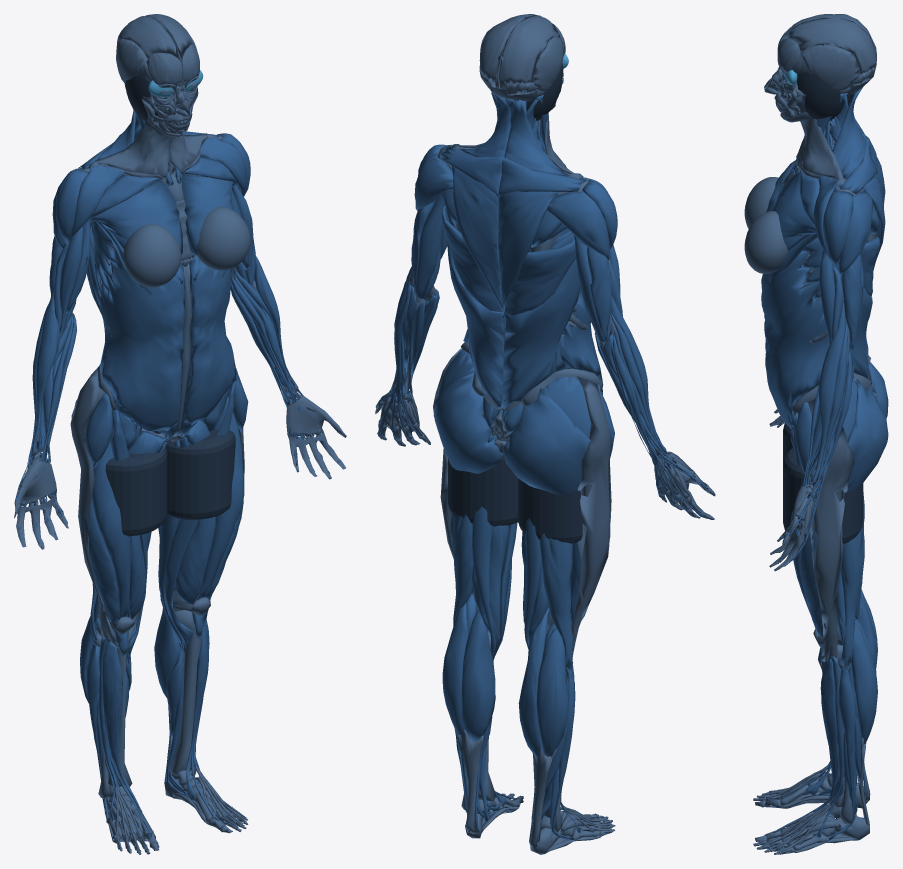
File: female.glb
3 renders of one model, left to right at view 1: azimuth 30°, elevation 25°; view 2: azimuth 150°, elevation 25°; view 3: azimuth 270°, elevation 25°, orthographic. The views are drawn at different scales.
Parts seen in each view (by area): view 1: connective_tissue__female_mobile, external_oblique_right__female_mobile, skeleton__female_mobile, head_hands_feet__female_mobile, external_oblique_left__female_mobile, Athlete_Training_Shorts.001, Athlete_Training_Shorts, rectus_femoris_right__female_mobile, pectoralis_major_sternocostal_right__female_mobile, breast_tissue_right__female_mobile, breast_tissue_left__female_mobile, rectus_femoris_left__female_mobile (+31 smaller); view 2: connective_tissue__female_mobile, latissimus_dorsi_right__female_mobile, skeleton__female_mobile, gluteus_maximus_right__female_mobile, latissimus_dorsi_left__female_mobile, gluteus_maximus_left__female_mobile, head_hands_feet__female_mobile, trapezius_upper_left__female_mobile, Athlete_Training_Shorts.001, trapezius_upper_right__female_mobile, gastrocnemius_medial_left__female_mobile, gastrocnemius_lateral_right__female_mobile (+31 smaller); view 3: connective_tissue__female_mobile, head_hands_feet__female_mobile, external_oblique_left__female_mobile, skeleton__female_mobile, gluteus_maximus_left__female_mobile, Athlete_Training_Shorts.001, breast_tissue_left__female_mobile, gastrocnemius_lateral_left__female_mobile, biceps_femoris_long_left__female_mobile, brachioradialis_muscle_left__female_mobile, pectoralis_major_sternocostal_left__female_mobile, latissimus_dorsi_left__female_mobile (+32 smaller).
Part boxes in pixels (x1,y1,x2,y2): connective_tissue__female_mobile: [14, 14, 346, 849]; external_oblique_right__female_mobile: [100, 246, 185, 431]; skeleton__female_mobile: [14, 22, 346, 854]; head_hands_feet__female_mobile: [20, 27, 323, 850]; external_oblique_left__female_mobile: [184, 256, 236, 424]; Athlete_Training_Shorts.001: [155, 429, 235, 519]; Athlete_Training_Shorts: [105, 448, 167, 536]; rectus_femoris_right__female_mobile: [91, 430, 131, 658]; pectoralis_major_sternocostal_right__female_mobile: [86, 180, 182, 254]; breast_tissue_right__female_mobile: [123, 224, 181, 287]; breast_tissue_left__female_mobile: [197, 206, 250, 270]; rectus_femoris_left__female_mobile: [193, 396, 244, 639]; connective_tissue__female_mobile: [375, 14, 715, 854]; latissimus_dorsi_right__female_mobile: [501, 239, 580, 409]; skeleton__female_mobile: [375, 16, 715, 854]; gluteus_maximus_right__female_mobile: [503, 388, 590, 494]; latissimus_dorsi_left__female_mobile: [442, 205, 504, 407]; gluteus_maximus_left__female_mobile: [433, 372, 502, 473]; head_hands_feet__female_mobile: [378, 24, 692, 851]; trapezius_upper_left__female_mobile: [451, 166, 504, 312]; Athlete_Training_Shorts.001: [448, 439, 517, 526]; trapezius_upper_right__female_mobile: [498, 191, 560, 312]; gastrocnemius_medial_left__female_mobile: [461, 609, 495, 741]; gastrocnemius_lateral_right__female_mobile: [536, 627, 568, 756]; connective_tissue__female_mobile: [758, 14, 876, 852]; head_hands_feet__female_mobile: [766, 27, 876, 853]; external_oblique_left__female_mobile: [761, 251, 829, 426]; skeleton__female_mobile: [753, 17, 878, 854]; gluteus_maximus_left__female_mobile: [847, 379, 888, 491]; Athlete_Training_Shorts.001: [783, 448, 863, 543]; breast_tissue_left__female_mobile: [744, 211, 788, 273]; gastrocnemius_lateral_left__female_mobile: [851, 623, 877, 743]; biceps_femoris_long_left__female_mobile: [840, 523, 864, 667]; brachioradialis_muscle_left__female_mobile: [811, 300, 845, 484]; pectoralis_major_sternocostal_left__female_mobile: [771, 172, 816, 250]; latissimus_dorsi_left__female_mobile: [852, 236, 880, 386].
Bounding box in the file's own units: 1.66 × 3.8 × 0.6141.
